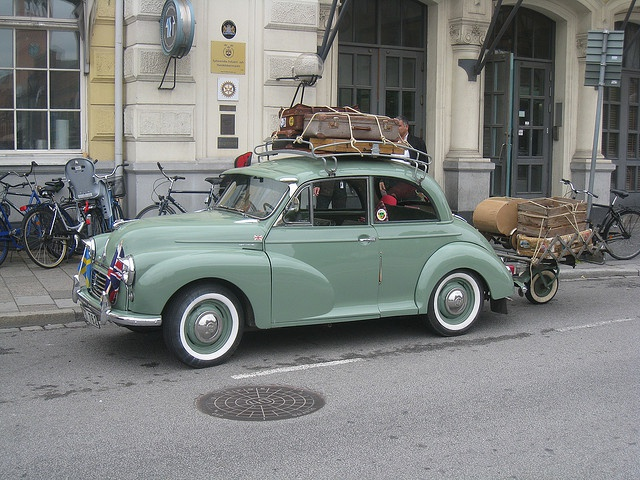non-vehicle: (558, 177, 639, 258), (26, 196, 110, 266), (135, 161, 223, 219), (0, 161, 41, 262), (93, 161, 127, 231)
